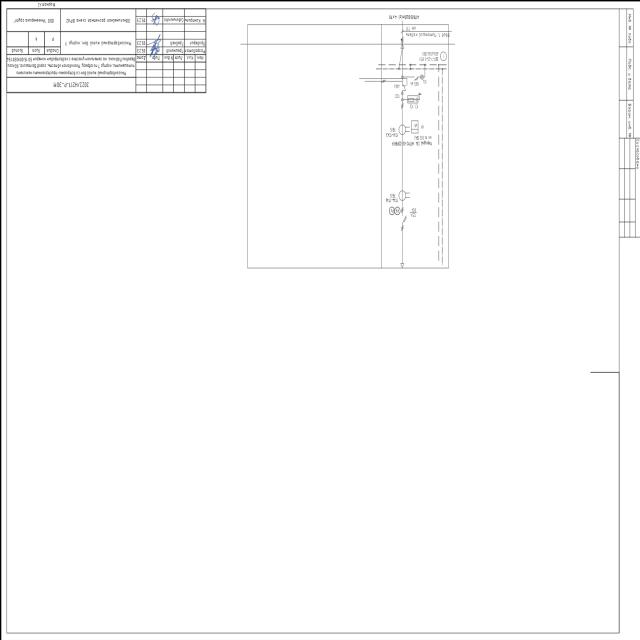-: (389, 134, 432, 146), (418, 50, 438, 61), (408, 205, 417, 218), (388, 125, 396, 132), (392, 82, 399, 89), (388, 192, 394, 198), (408, 80, 412, 86)
HL: (419, 73, 423, 79)
PA: (394, 205, 399, 215)
PV: (388, 205, 393, 215)
QF: (399, 213, 406, 231), (412, 74, 418, 80)
TT: (396, 122, 409, 134), (398, 189, 410, 201)
WH: (410, 119, 418, 133)
switch: (401, 83, 406, 91)
